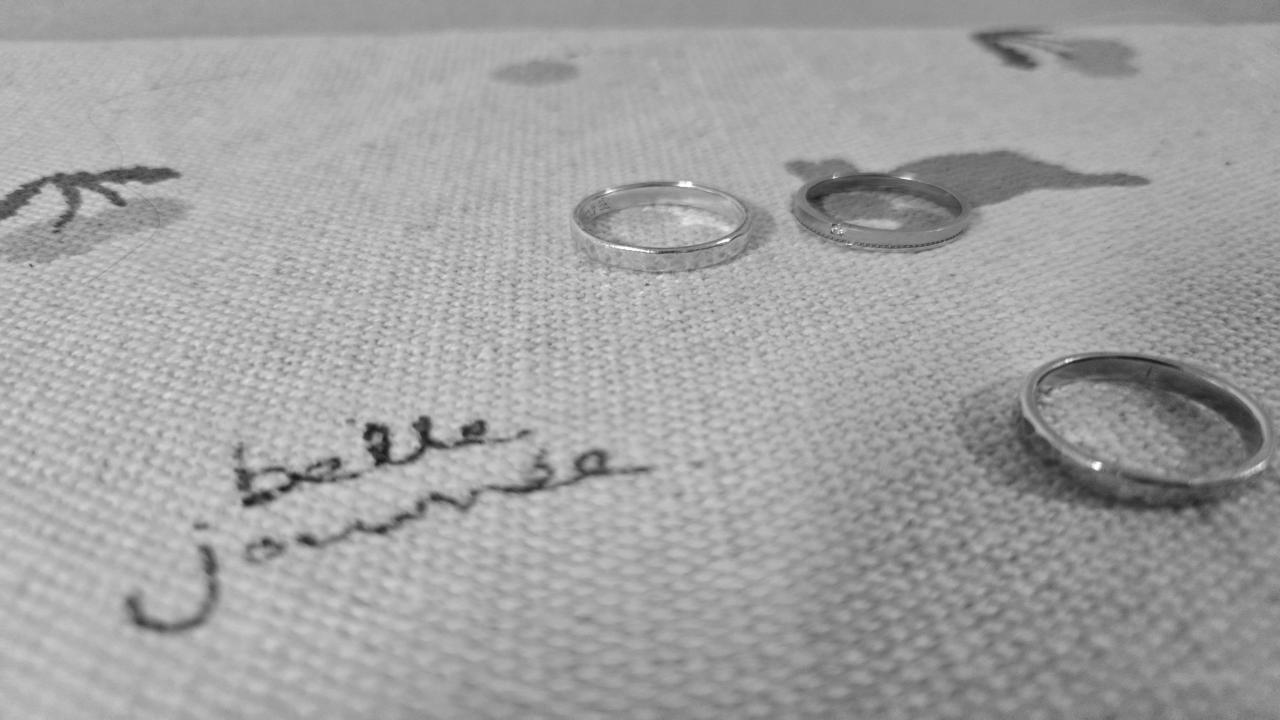ring: (1017, 352, 1277, 502), (568, 180, 751, 274), (792, 171, 971, 252)
